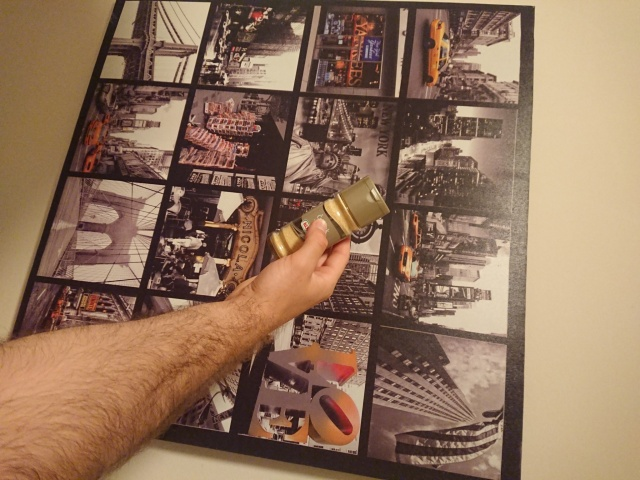Kotanyi Garlic Granules 70g: (265, 174, 392, 263)
